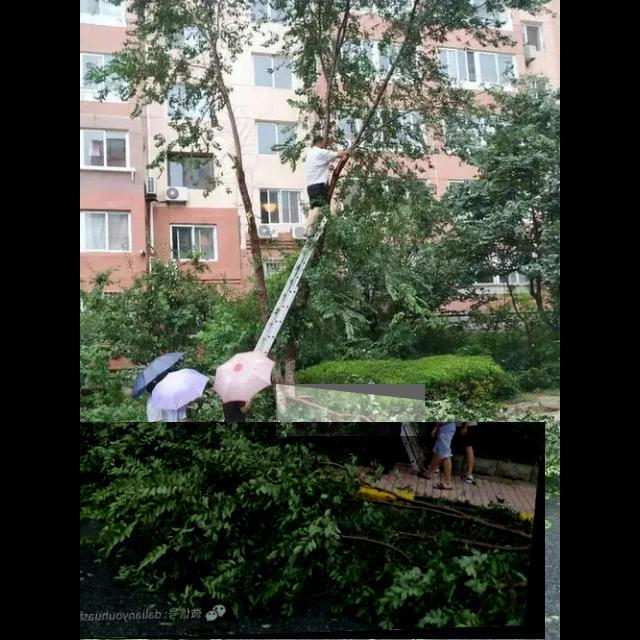fallen_tree: (80, 422, 546, 640), (276, 384, 426, 436)
